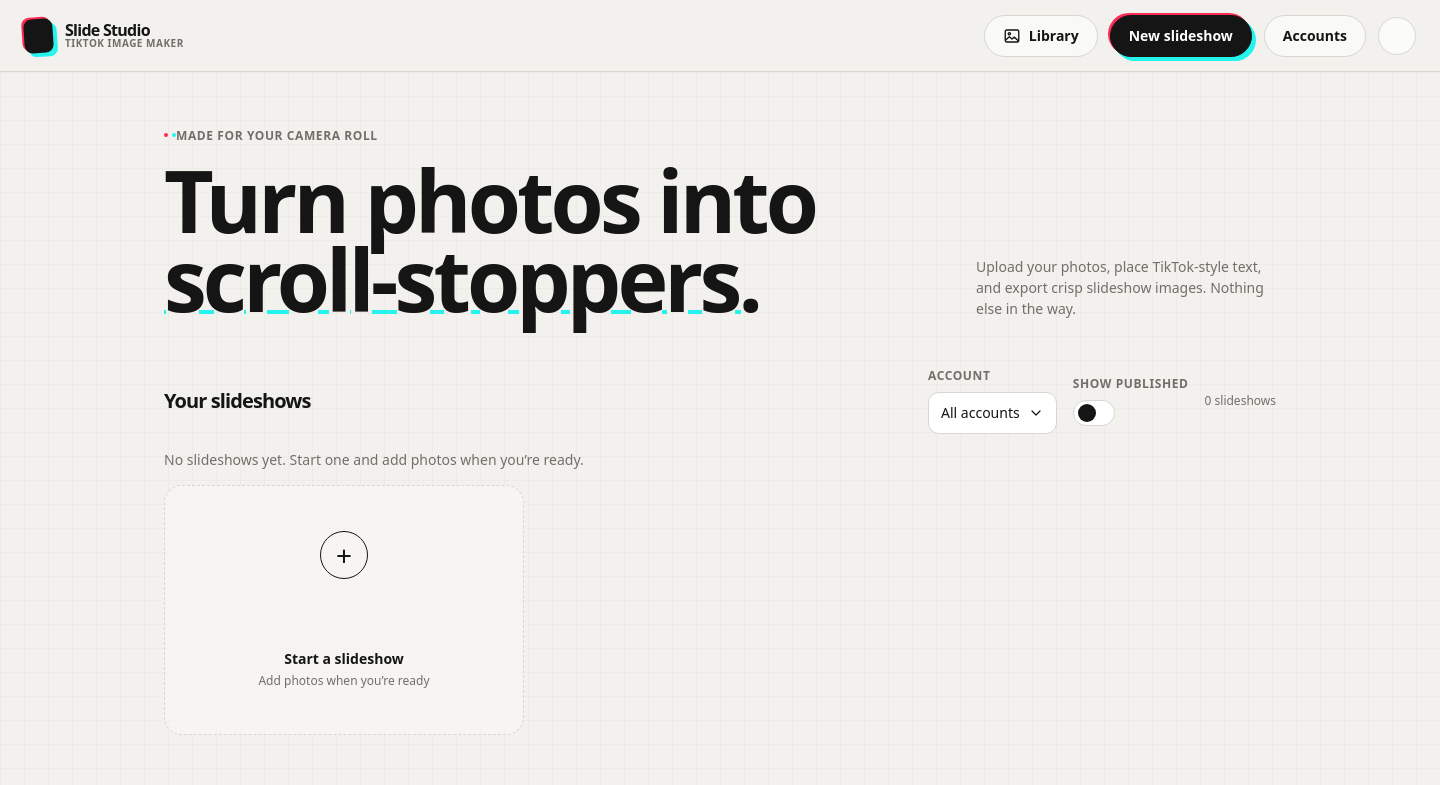
Scenario: walks from the dashboard to the library and back
The image size is (1440, 785).
Click the link "Library".
click(1041, 36)  # box [984, 14, 1098, 56]
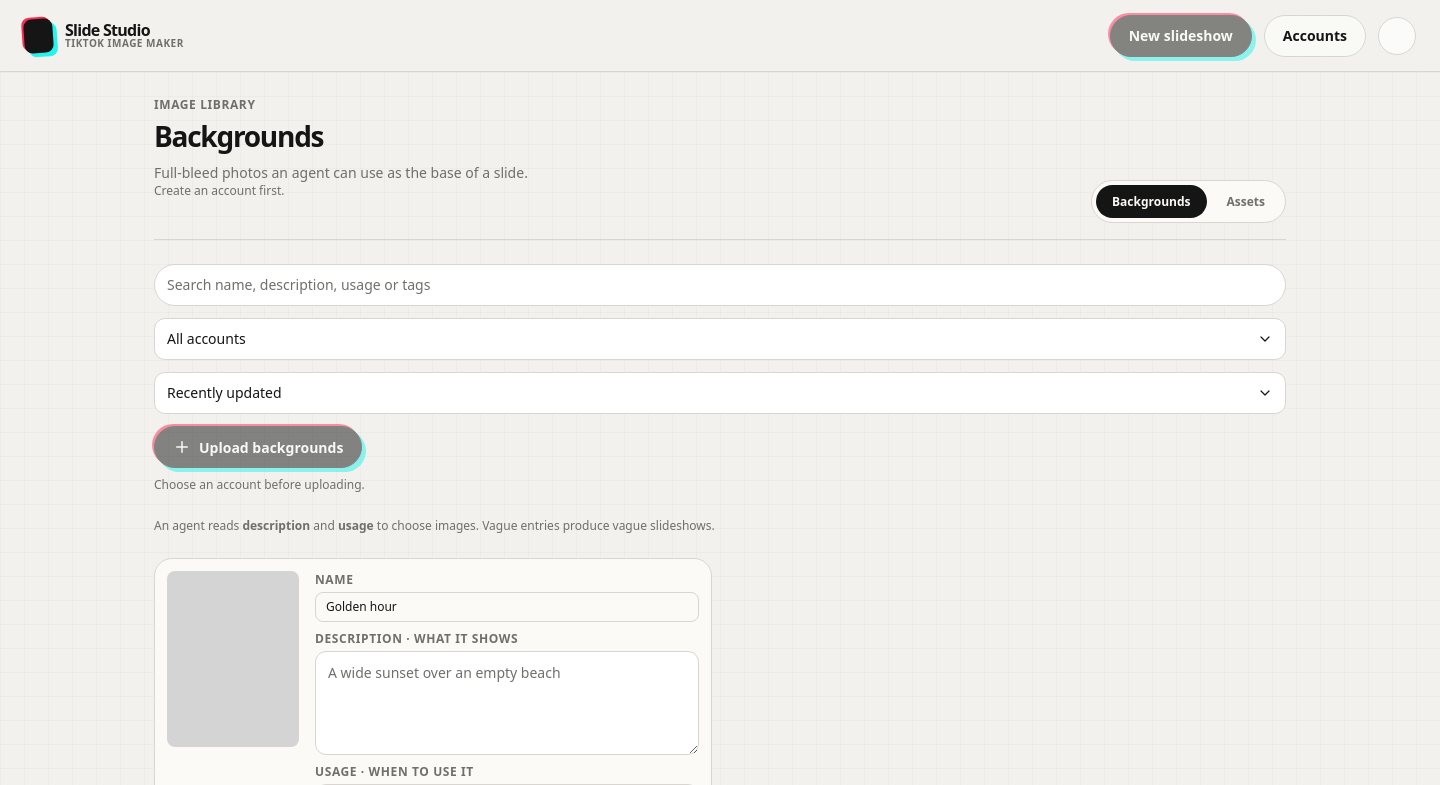
Check: the button "Upload backgrounds" is shown, box [154, 426, 362, 468]
Click the link "Assets".
click(1246, 202)  # box [1226, 193, 1265, 210]
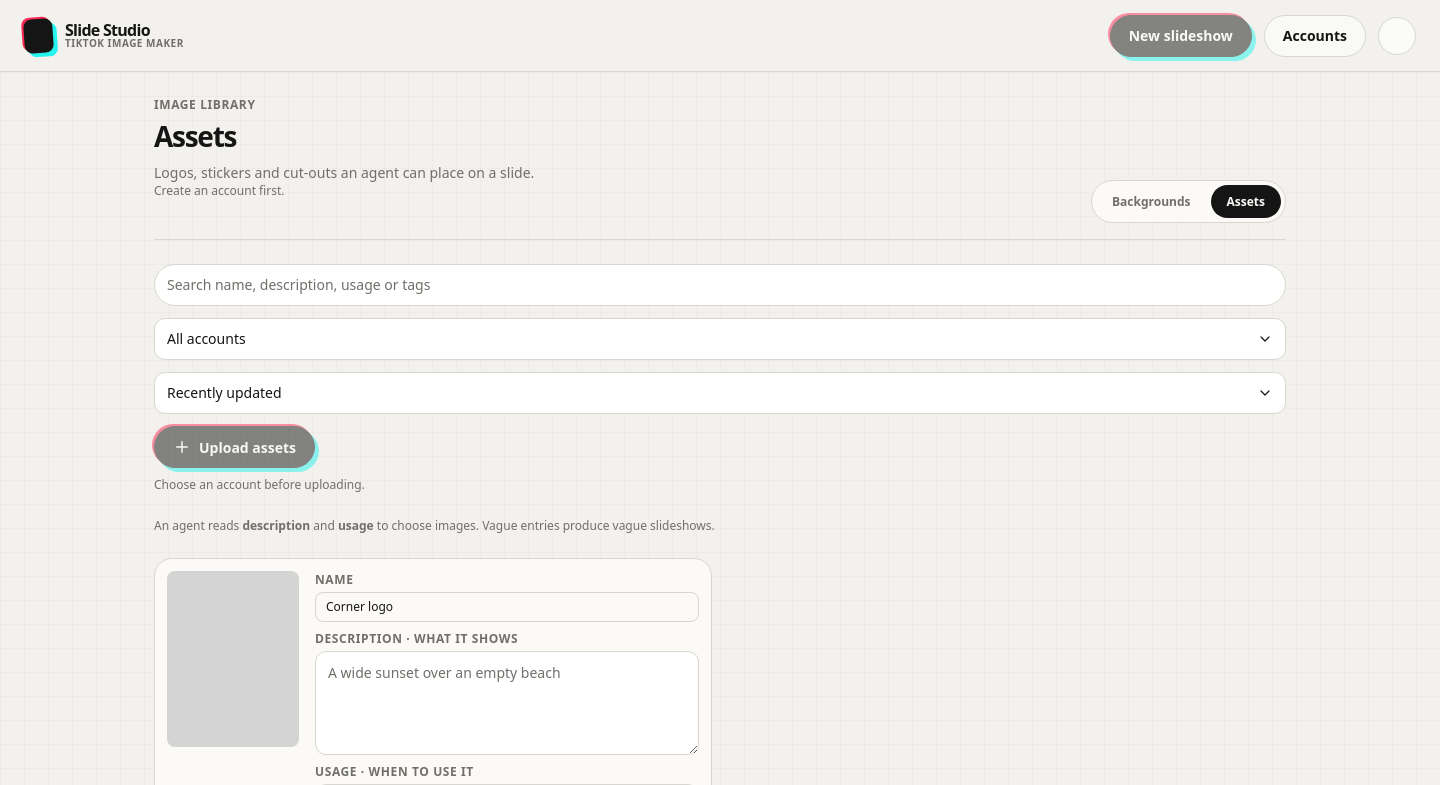
Check: the button "Upload assets" is shown, box [154, 426, 315, 468]
Click the link with aria-label "Go to slideshows".
click(104, 36)  # box [24, 18, 184, 52]
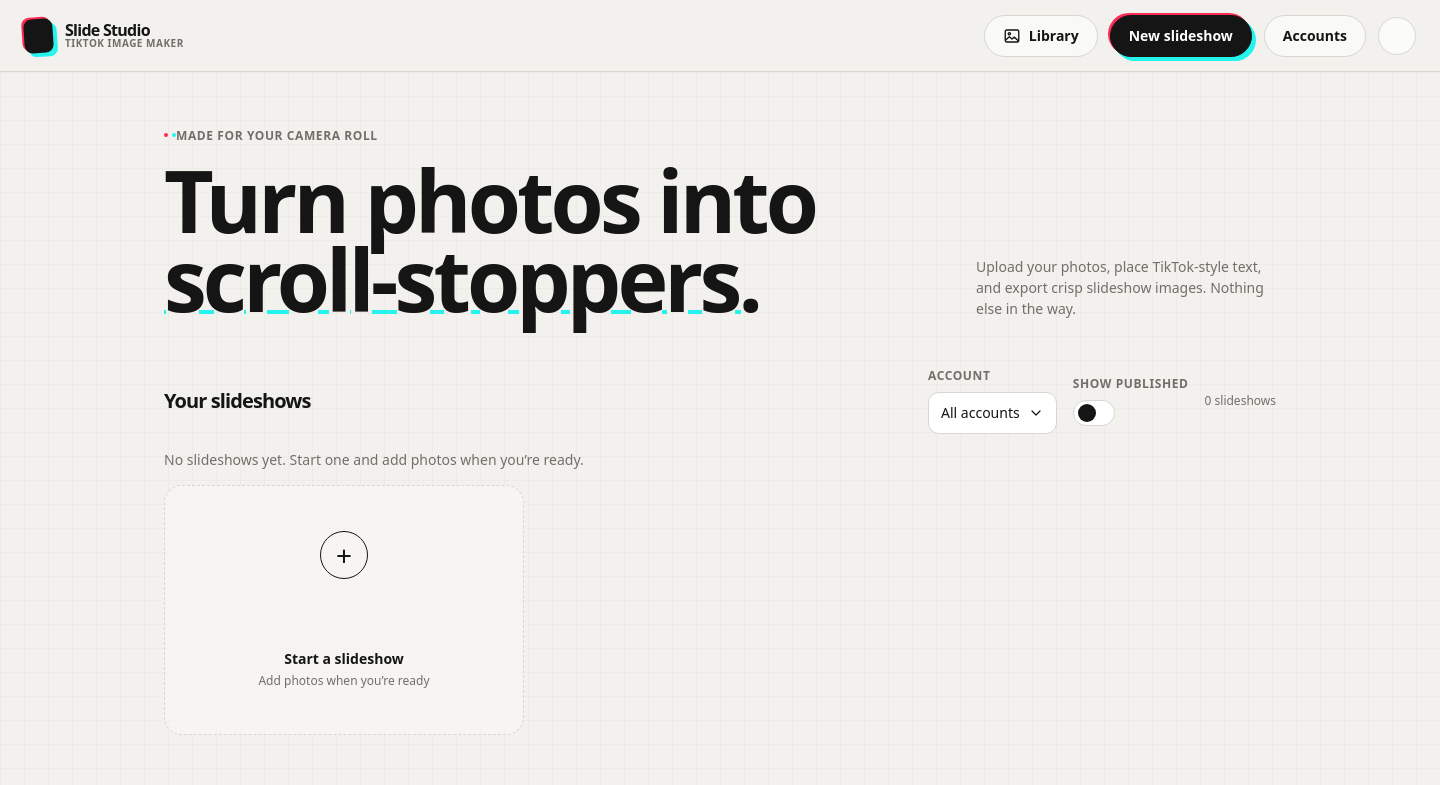
Check: the heading "Your slideshows" is shown, box [164, 387, 310, 414]
